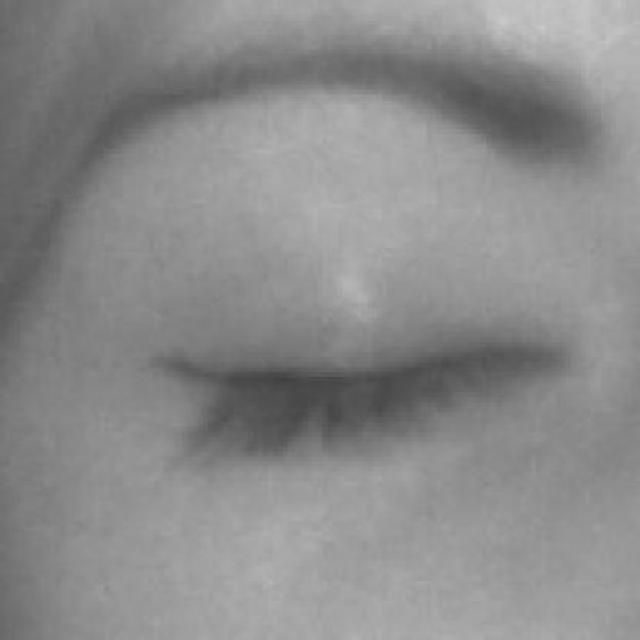drowsy: (148, 175, 575, 583)
